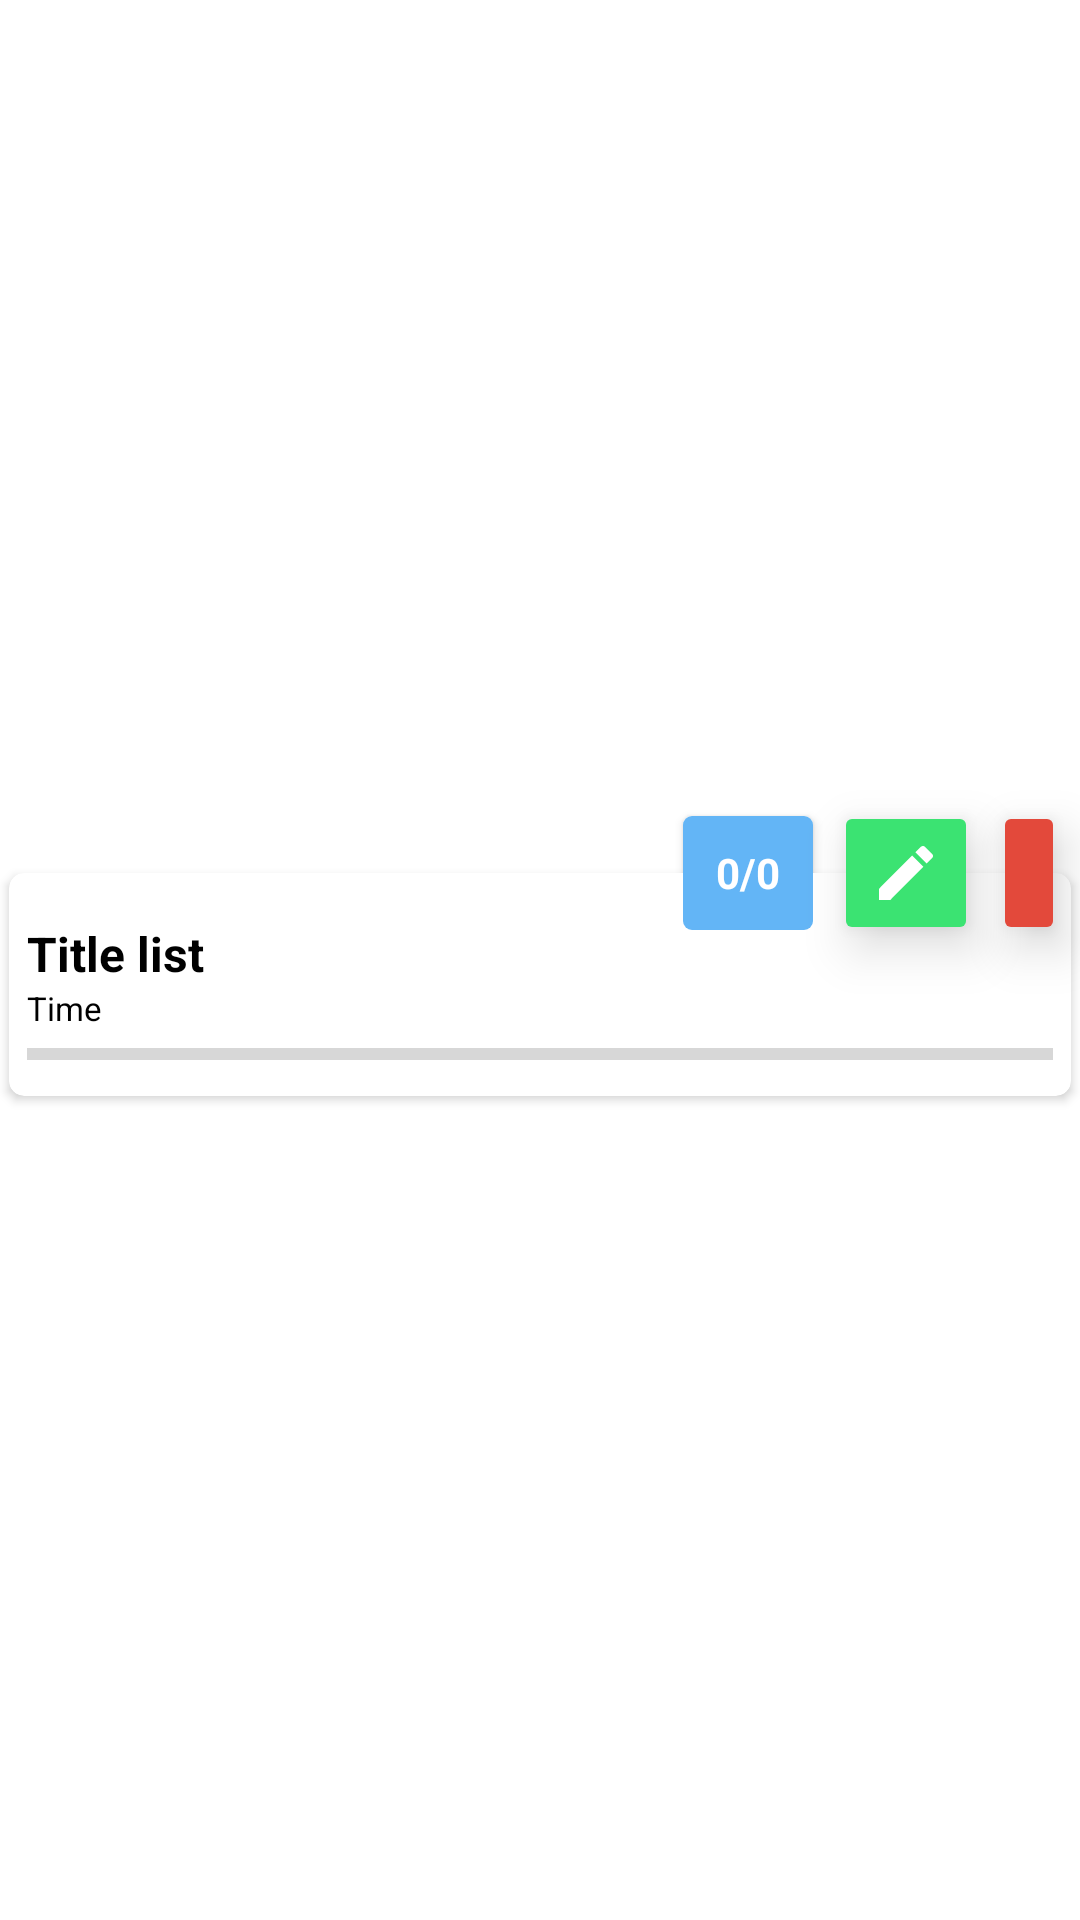

Screen size 1080w x 1920h. Icon name, then its center in pixels as (x,y):
edit list: (909,877)
